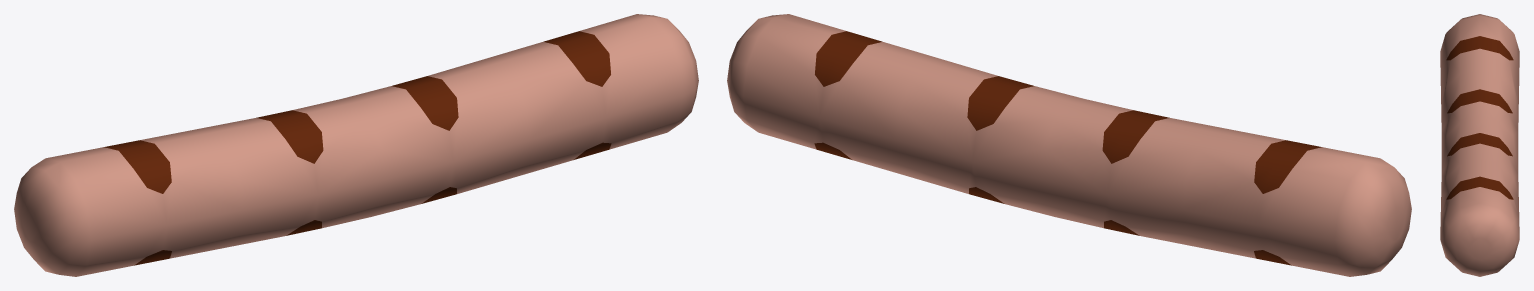
The model's file is Sausage_gril.fbx.
3 renders of one model, left to right at view 1: azimuth 30°, elevation 25°; view 2: azimuth 150°, elevation 25°; view 3: azimuth 270°, elevation 25°, orthographic. The views are drawn at different scales.
Visible parts, largest first — view 1: Sausage_gril; view 2: Sausage_gril; view 3: Sausage_gril.
Part boxes in pixels (<box>): Sausage_gril: <box>14,14,698,276</box>; Sausage_gril: <box>727,14,1411,276</box>; Sausage_gril: <box>1440,14,1519,276</box>.
Bounding box in the file's own units: 160 × 25.88 × 28.84.
